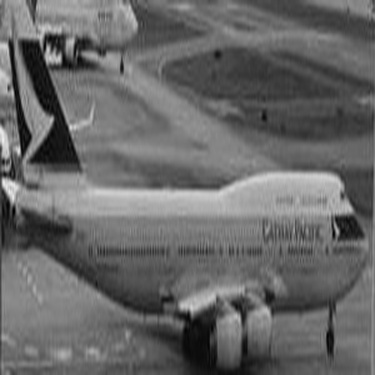airplane: (4, 4, 369, 372), (7, 1, 138, 79)
